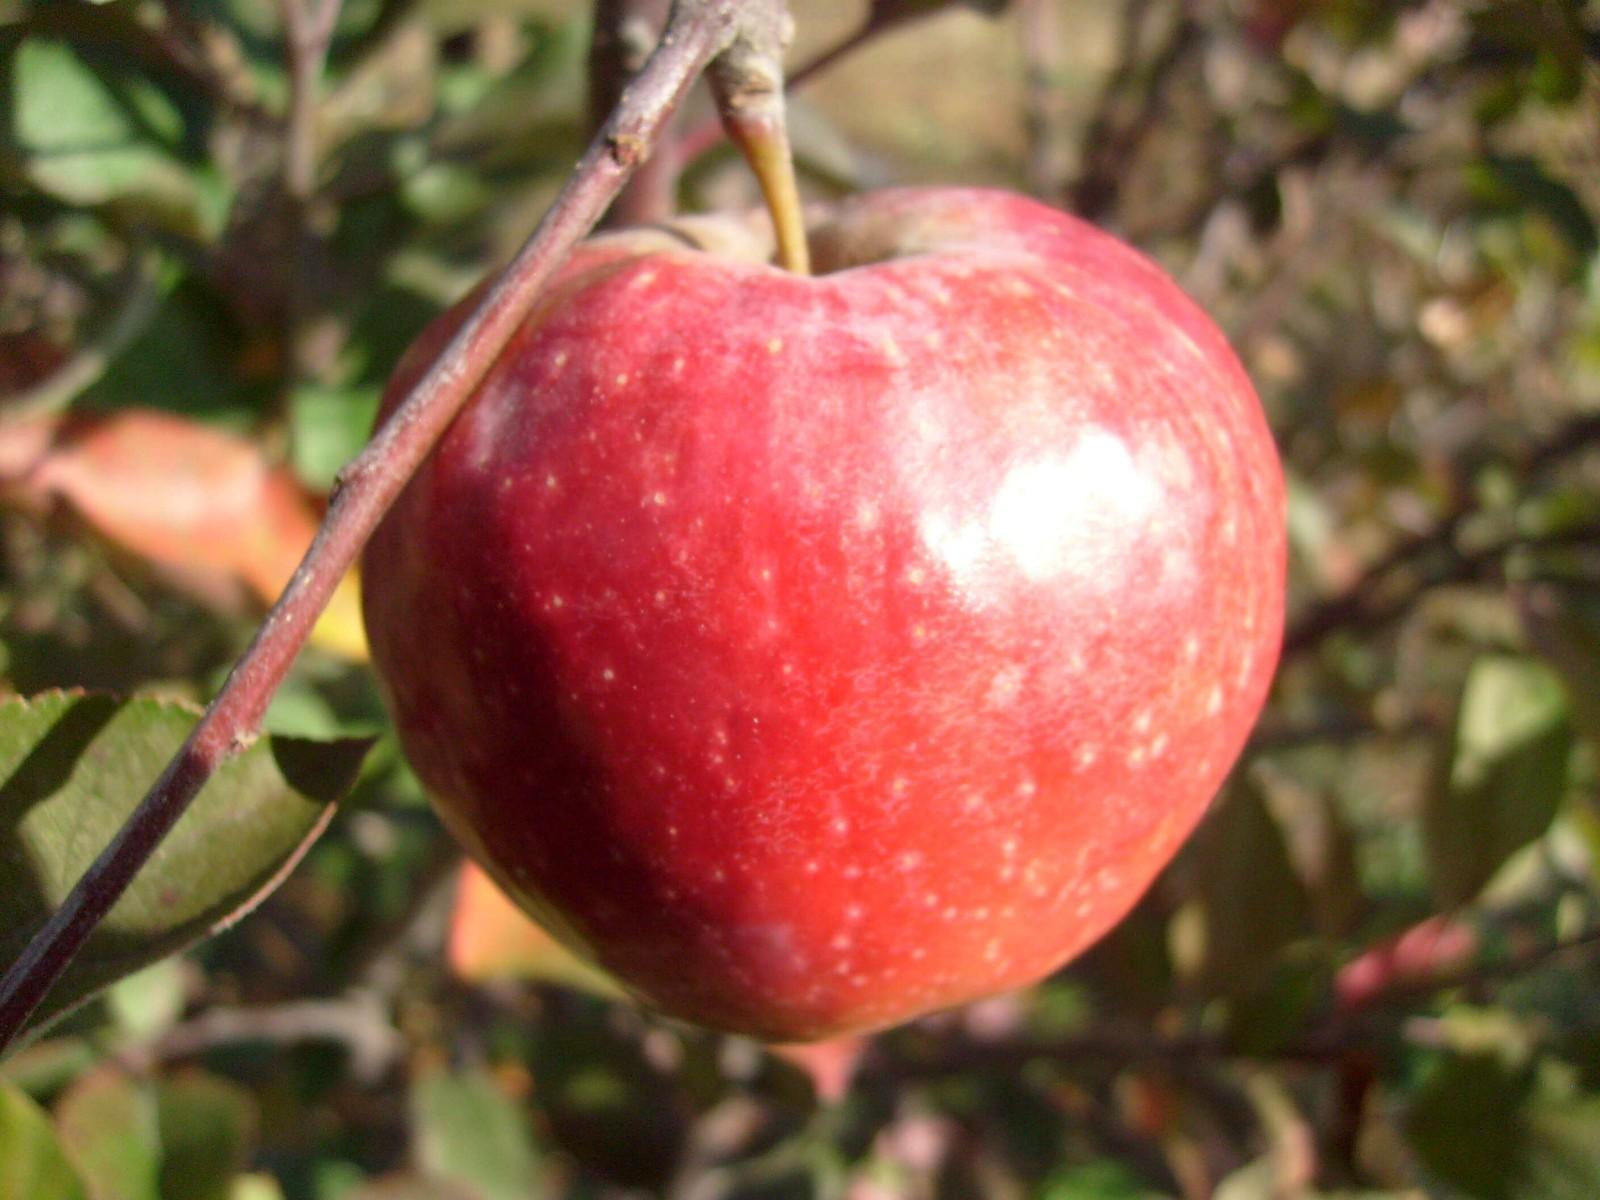apple: (346, 184, 1296, 1041)
